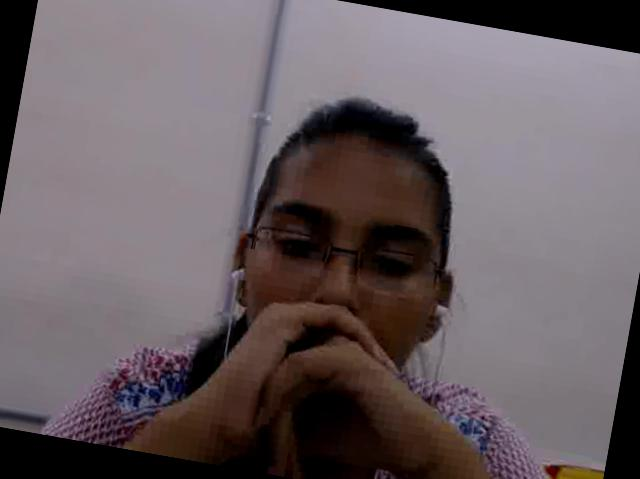bosan: (222, 145, 464, 430)
